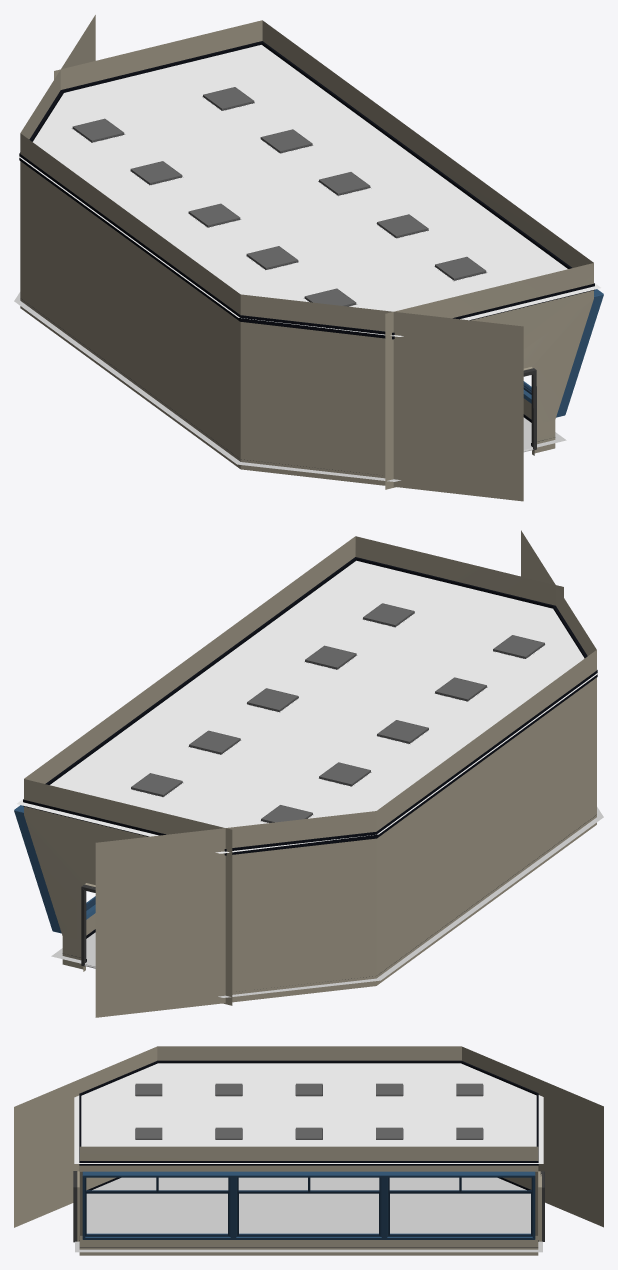
The model's file is SM_H_Building_Tide_MedicalRoom_23_ATLAS.fbx.
3 renders of one model, top to bottom at view 1: azimuth 30°, elevation 25°; view 2: azimuth 150°, elevation 25°; view 3: azimuth 270°, elevation 25°, orthographic. The views are drawn at different scales.
Visible parts, largest first — view 1: SM_H_Building_Tide_MedicalRoom_23_ATLAS; view 2: SM_H_Building_Tide_MedicalRoom_23_ATLAS; view 3: SM_H_Building_Tide_MedicalRoom_23_ATLAS.
Boxes of the visible parts, box(x1,y1,x2,y2) form: SM_H_Building_Tide_MedicalRoom_23_ATLAS: box(14, 15, 603, 501); SM_H_Building_Tide_MedicalRoom_23_ATLAS: box(14, 530, 603, 1017); SM_H_Building_Tide_MedicalRoom_23_ATLAS: box(14, 1046, 603, 1255).
Size of the model in its own units: 1065 by 2499 by 569.
